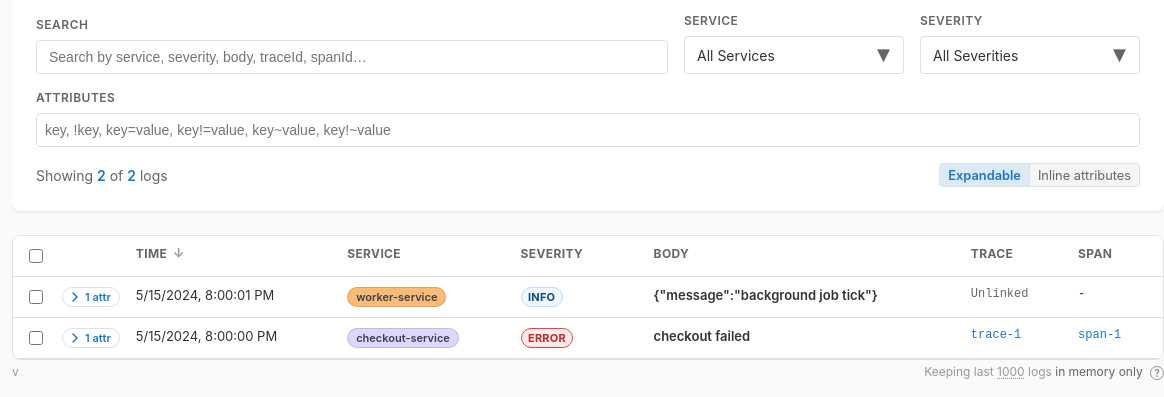
Test: Logs › filters logs by selected service
This screenshot has width=1164, height=397.
Click the button labelled "All Services ▾" at (794, 55), box [684,36,904,74]
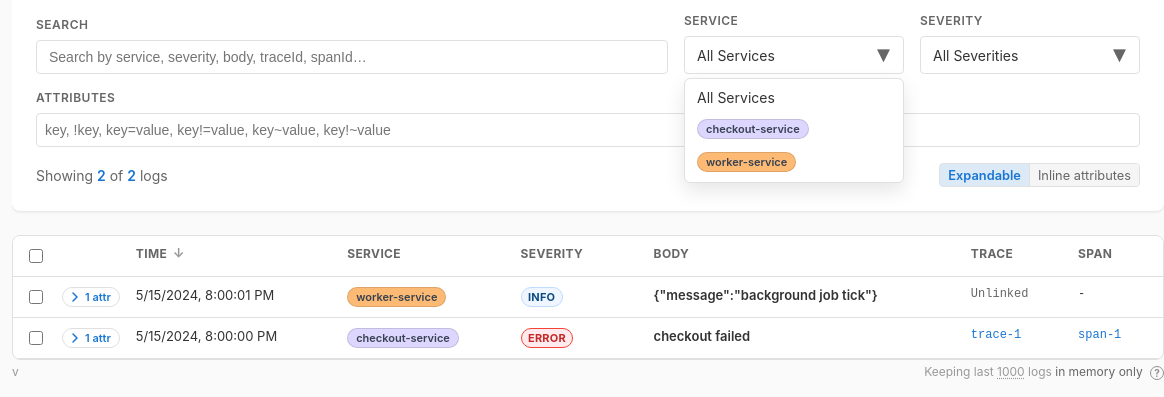
Click the button "worker-service" at (794, 162), box [689,146,899,178]
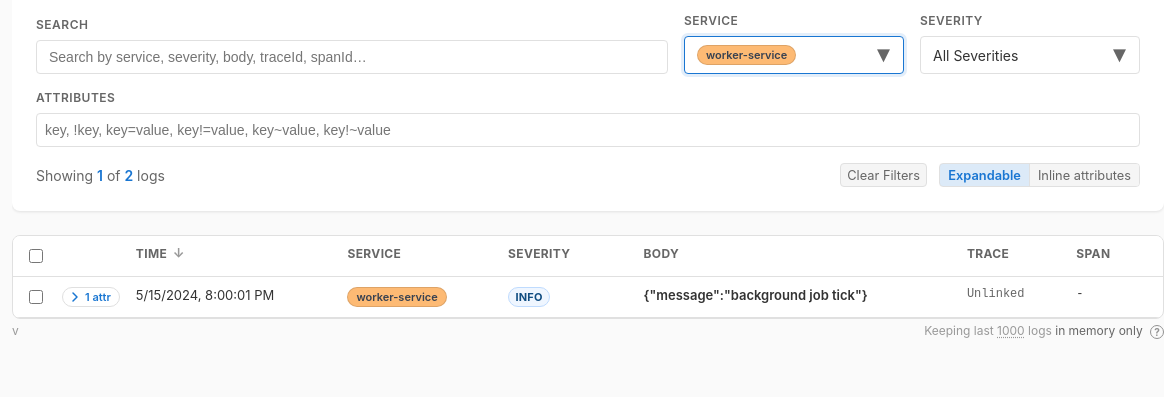
Check: the text "worker-service" next to "5/15/2024, 8:00:01 PM" is shown, box [356,290,438,304]
Check: the button "checkout-service" is gone
